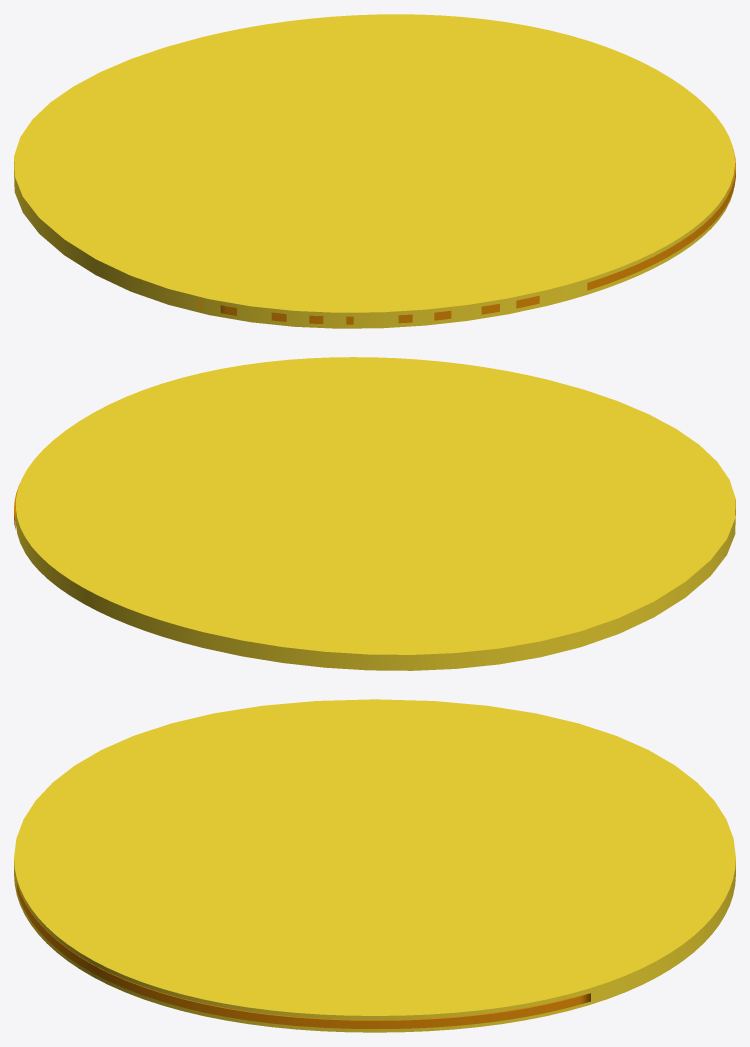
File: emoji_u1f619.glb
3 views of the same model, one above another, from view 1: azimuth 30°, elevation 25°; view 2: azimuth 150°, elevation 25°; view 3: azimuth 270°, elevation 25° (orthographic). The views are drawn at different scales.
Visible parts, largest first — view 1: emoji_u1f619; view 2: emoji_u1f619; view 3: emoji_u1f619.
Boxes of the visible parts, <box> form: emoji_u1f619: <box>14,14,735,328</box>; emoji_u1f619: <box>14,357,735,670</box>; emoji_u1f619: <box>14,699,735,1032</box>.
Size of the model in its own units: 0.0327 by 0.0008 by 0.0315.
